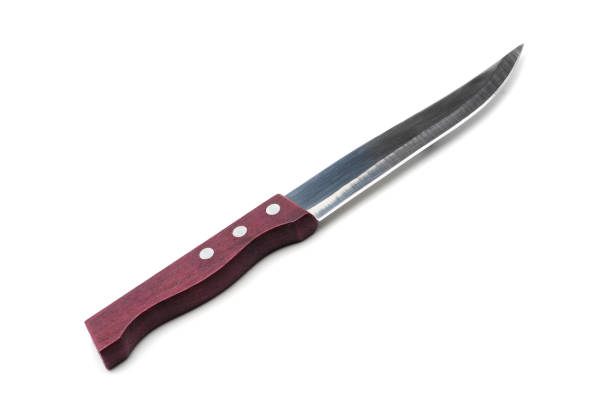knife: (84, 42, 528, 374)
